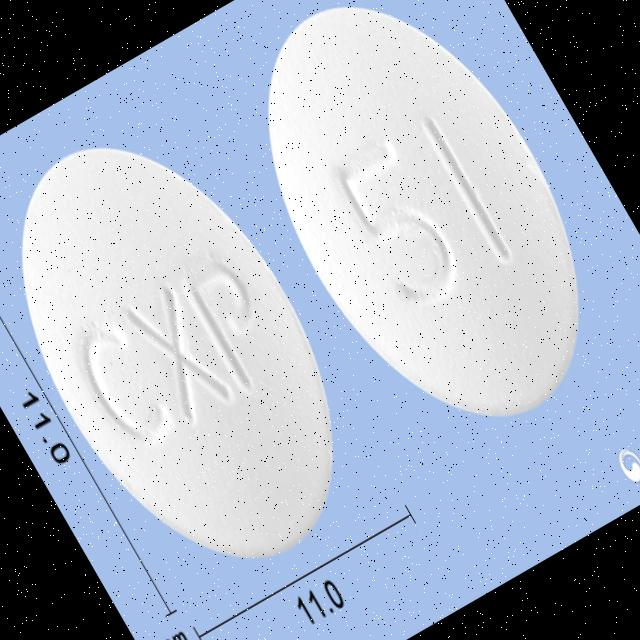Ciprotwo: (0, 86, 405, 619), (200, 0, 640, 477)
